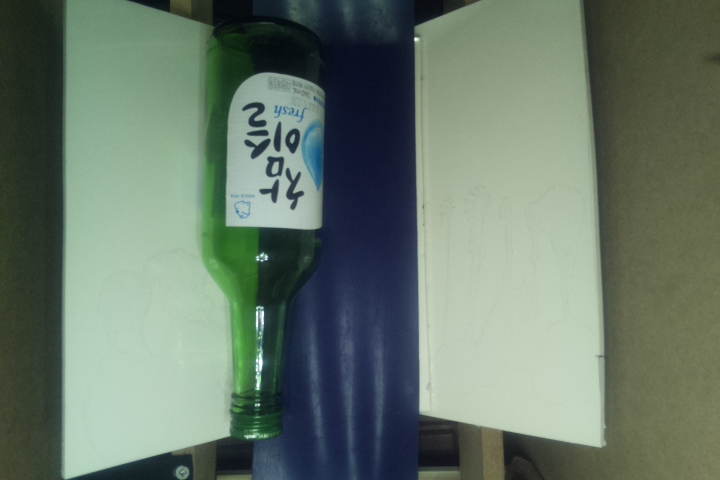soju: (197, 16, 326, 442)
